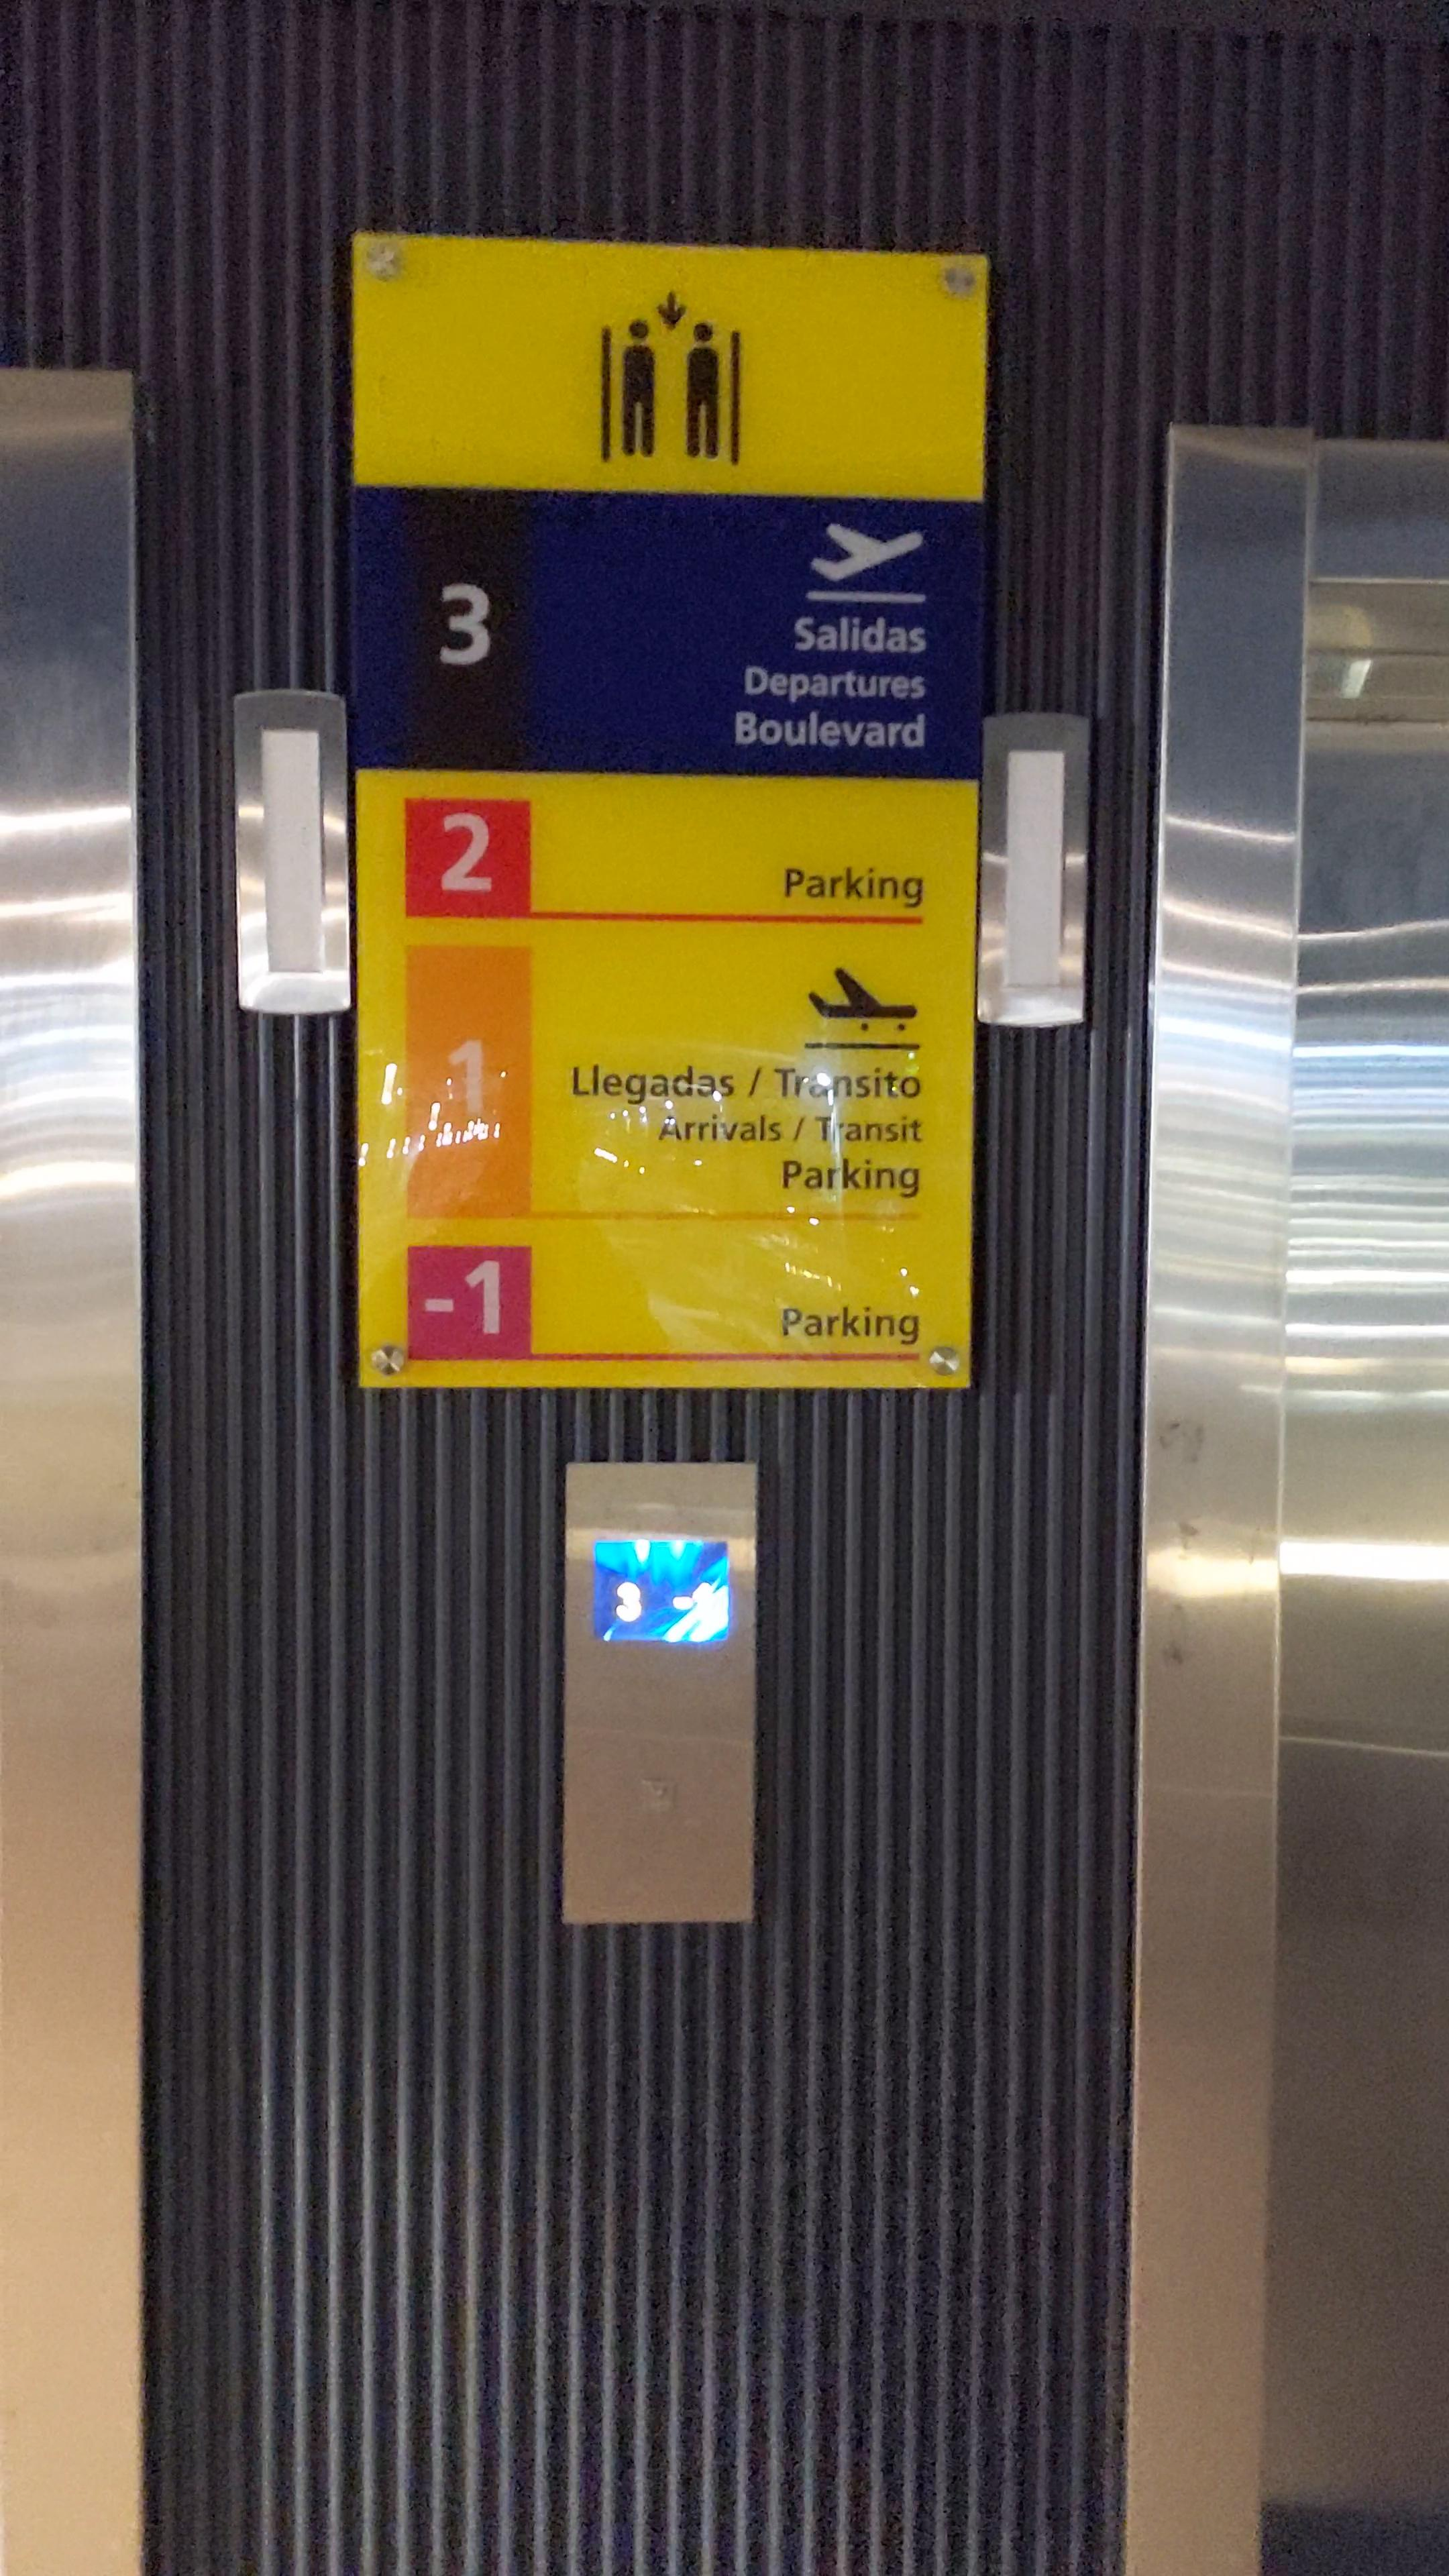airplane symbol: (801, 959, 925, 1026), (810, 520, 927, 587)
